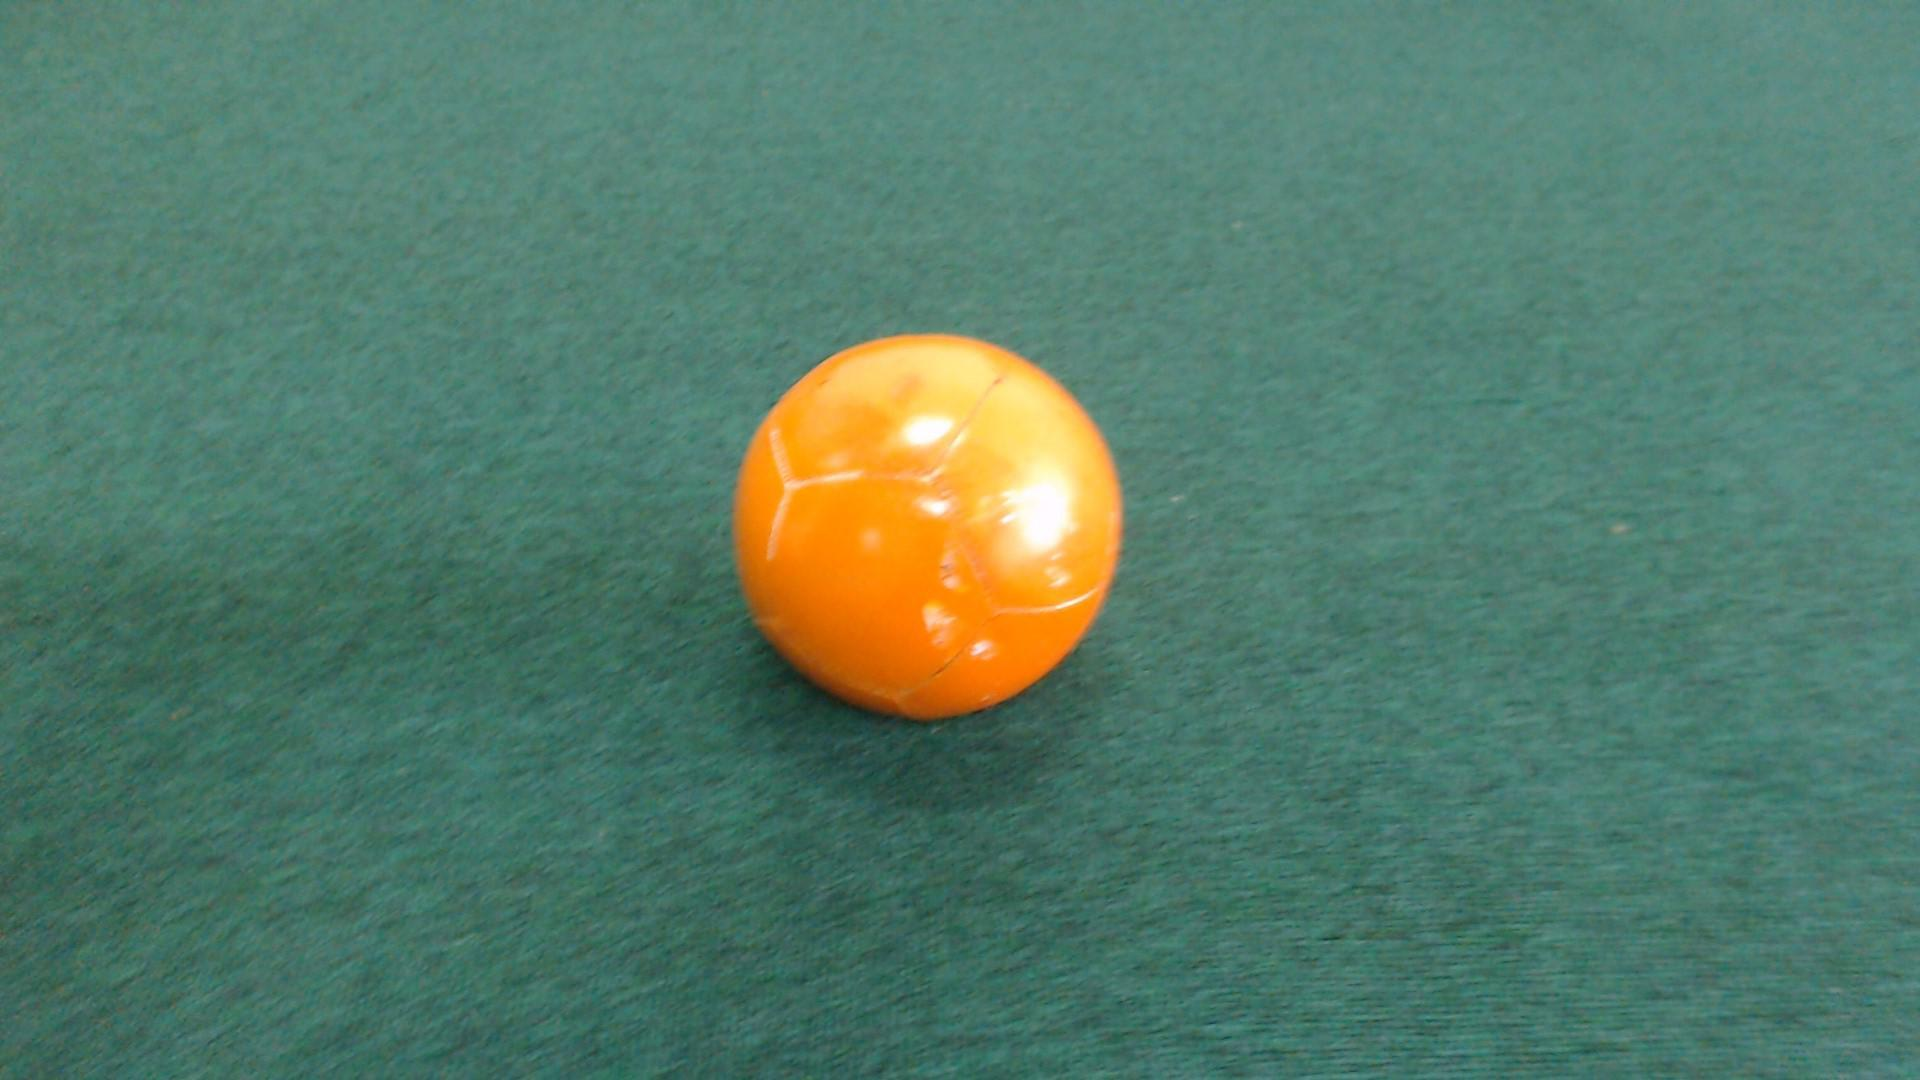bola: (703, 338, 1145, 715)
